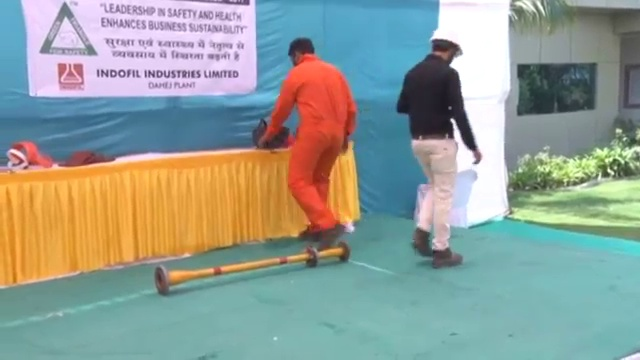helmet: (429, 25, 464, 57)
helmet_off: (288, 35, 316, 66)
helmet_on: (430, 25, 466, 63)
person: (393, 26, 483, 266), (267, 35, 359, 248)
